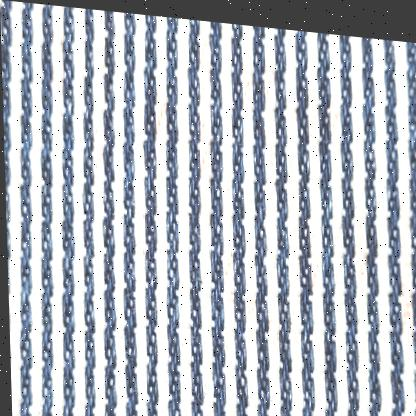spot: (143, 83, 175, 157), (236, 62, 272, 116), (195, 86, 209, 179), (307, 89, 342, 126), (396, 272, 415, 327), (196, 25, 213, 70)
